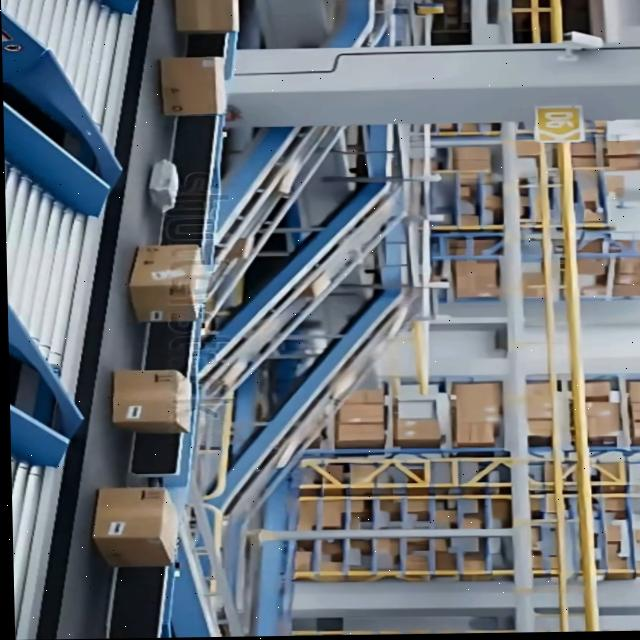product 1: (126, 244, 208, 323), (109, 369, 193, 434), (158, 55, 227, 116)
product 2: (147, 159, 180, 211)
